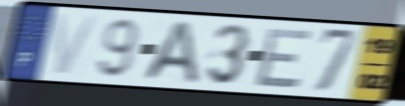3: (199, 22, 256, 87)
7: (317, 25, 357, 95)
9: (95, 17, 143, 80)
A: (138, 19, 202, 87)
E: (252, 27, 316, 89)
V: (52, 11, 101, 77)
